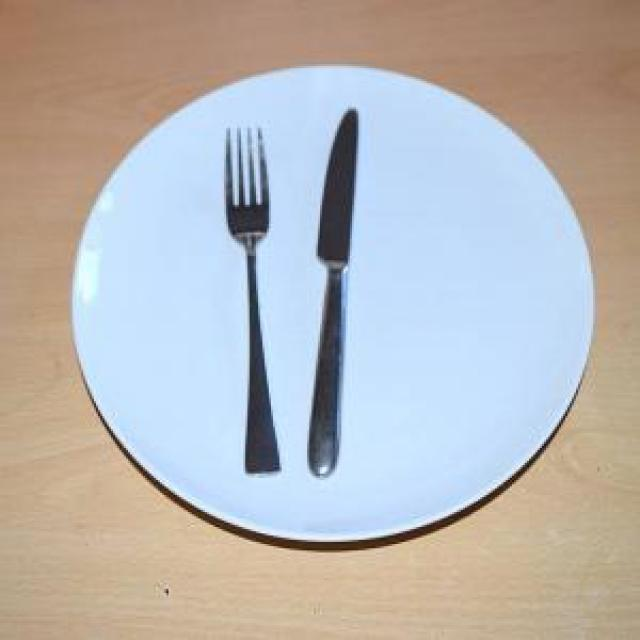knife: (303, 105, 359, 482)
